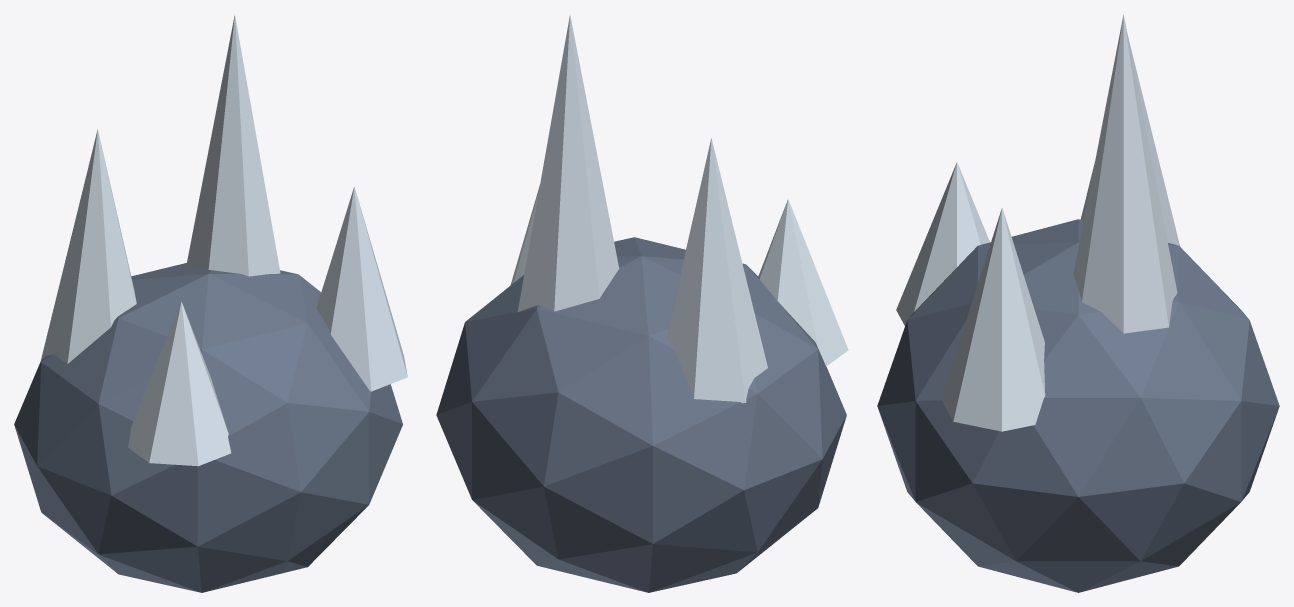
The model's file is ore_Xenomit.glb.
3 views of the same model, side by side, from view 1: azimuth 30°, elevation 25°; view 2: azimuth 150°, elevation 25°; view 3: azimuth 270°, elevation 25° (orthographic). The views are drawn at different scales.
Parts seen in each view (by area): view 1: rock, crystal_1, crystal_0, crystal_3, crystal_2; view 2: rock, crystal_1, crystal_0, crystal_3, crystal_2; view 3: rock, crystal_1, crystal_2, crystal_3, crystal_0.
Boxes of the visible parts, box(x1,y1,x2,y2) form: rock: box(14, 263, 402, 592); crystal_1: box(186, 14, 280, 276); crystal_0: box(40, 129, 136, 363); crystal_3: box(128, 301, 231, 466); crystal_2: box(316, 186, 407, 391); rock: box(436, 237, 846, 592); crystal_1: box(517, 14, 619, 311); crystal_0: box(667, 138, 767, 403); crystal_3: box(758, 199, 848, 366); crystal_2: box(510, 185, 539, 285); rock: box(877, 219, 1279, 592); crystal_1: box(1073, 15, 1177, 333); crystal_2: box(941, 207, 1045, 431); crystal_3: box(896, 162, 989, 325); crystal_0: box(1080, 35, 1179, 245).
Size of the model in its own units: 1.24 by 1.85 by 1.16.
